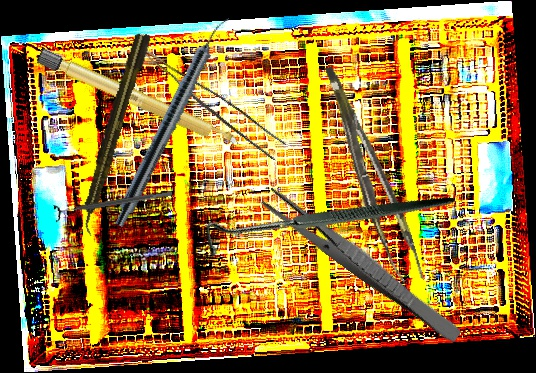Dressing Forceps: (259, 184, 467, 346)
Fixation Ring: (53, 183, 174, 224)
Handpiece: (110, 11, 234, 231), (73, 29, 154, 237)
Hook Surgical: (197, 122, 457, 328)
Scalpel Handle: (34, 46, 244, 153)
Tissue Forceps: (325, 58, 424, 289), (126, 46, 290, 161)
